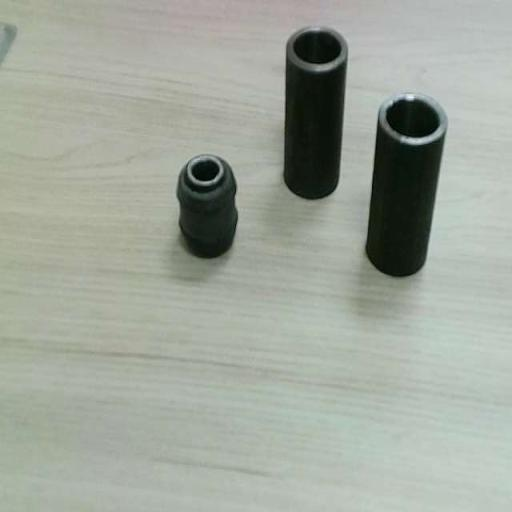peca: (366, 93, 446, 274), (285, 27, 347, 196), (178, 155, 237, 256)
